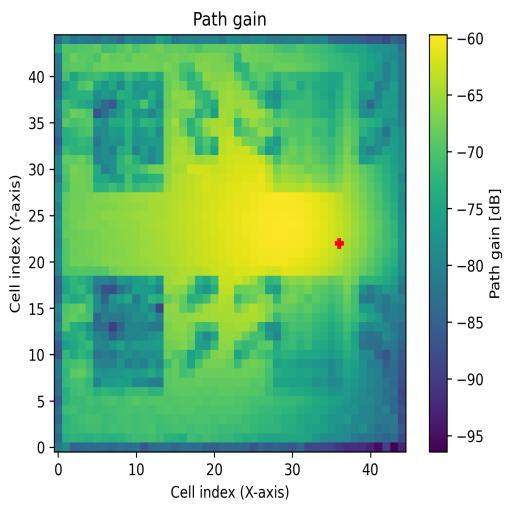Concrete: (272, 73, 344, 193)
Glass: (93, 72, 164, 193)
Metal: (274, 277, 344, 394)
Wood: (94, 275, 164, 387)
